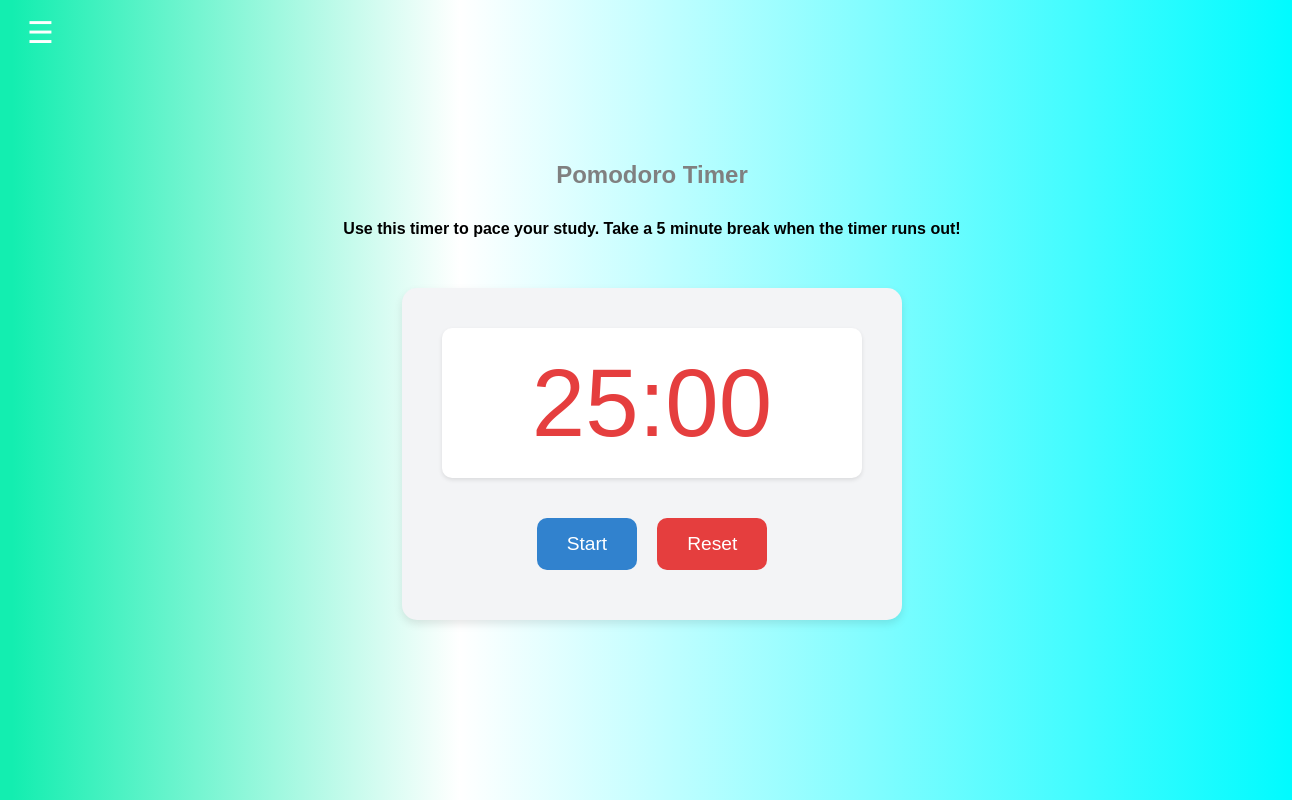
Pomodoro Timer › resets timer
What coordinates should you click on to do the following:
click the button "Start"
I would click on:
 (587, 544)
Its box is [537,518,637,570].
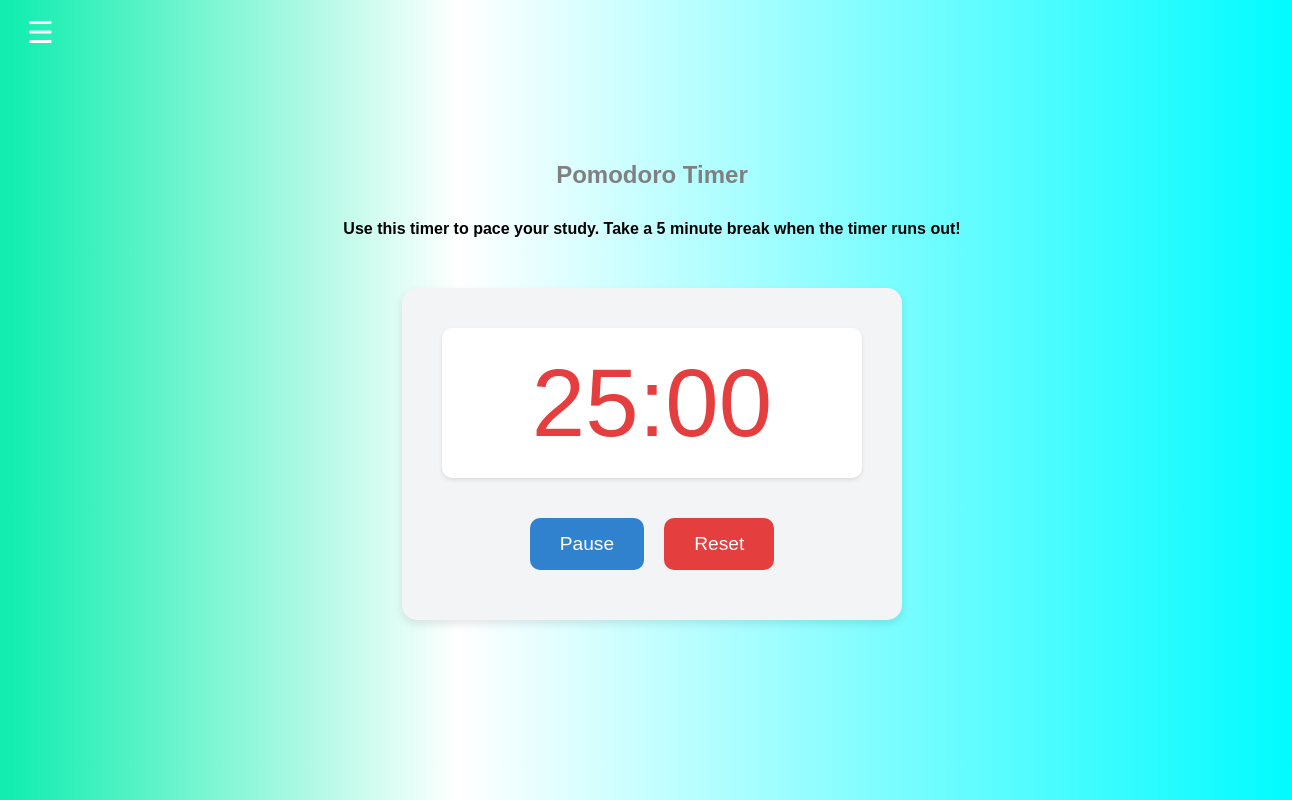
What coordinates should you click on to do the following:
click the button "Reset"
I would click on:
 (719, 544)
Its box is [664,518,774,570].
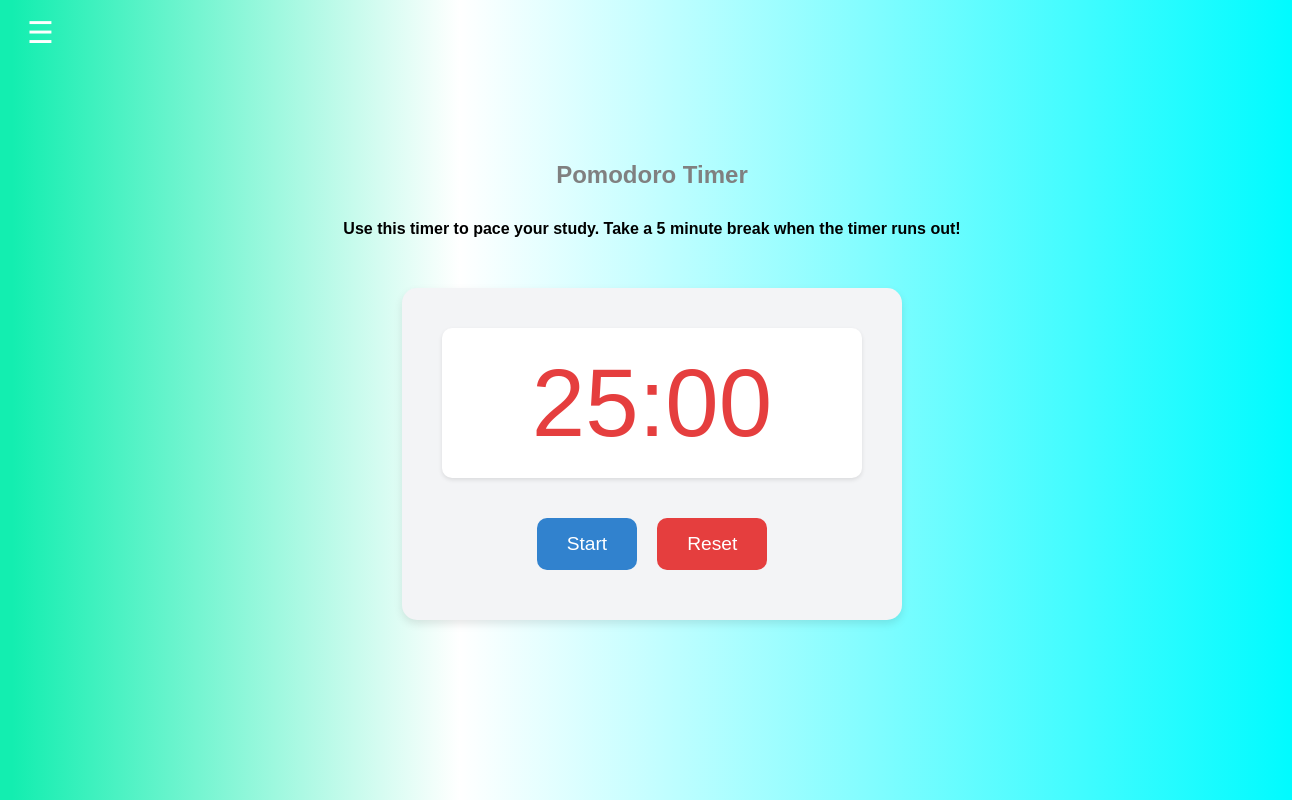
Expected: the text "25:00" is shown, [442,328,862,478]
Now the button "Start" is shown, box [537,518,637,570]
